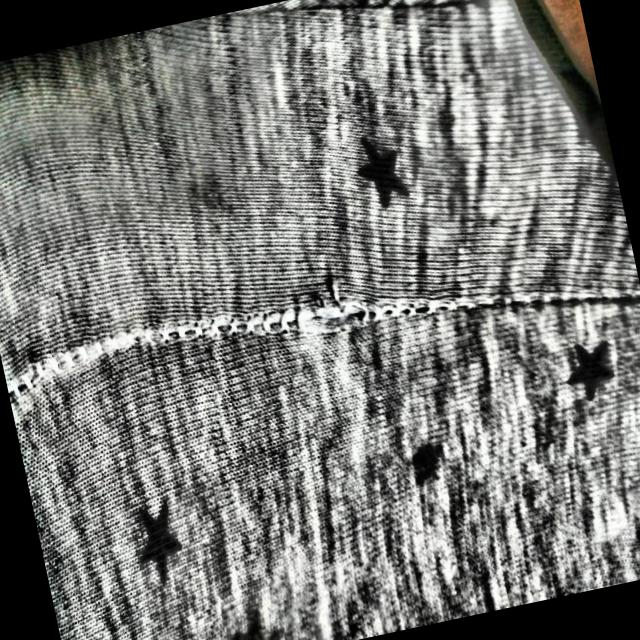gray stitch: (222, 230, 420, 386)
